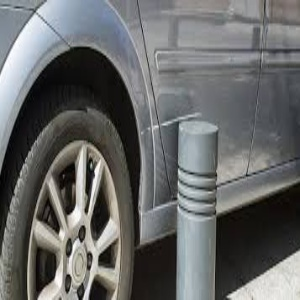door_scratch: (140, 100, 206, 135)
